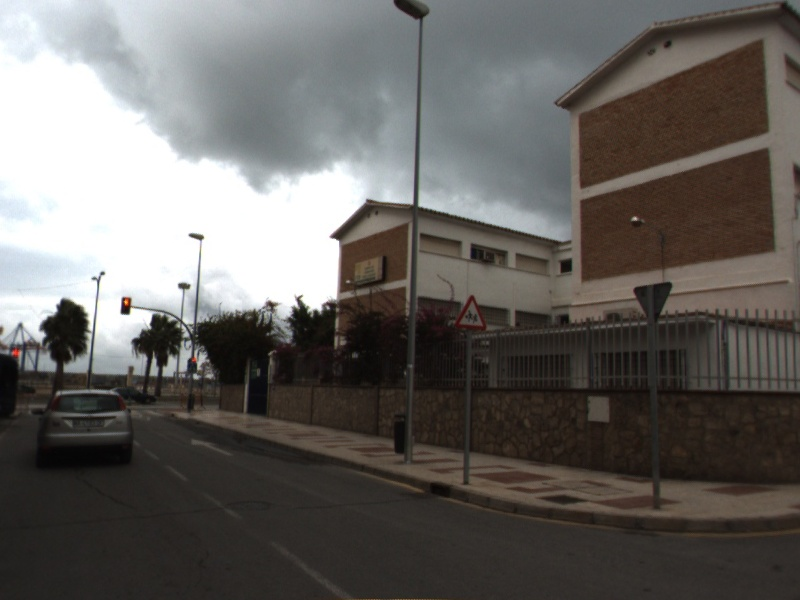STRAIGHT: (189, 436, 238, 459)
